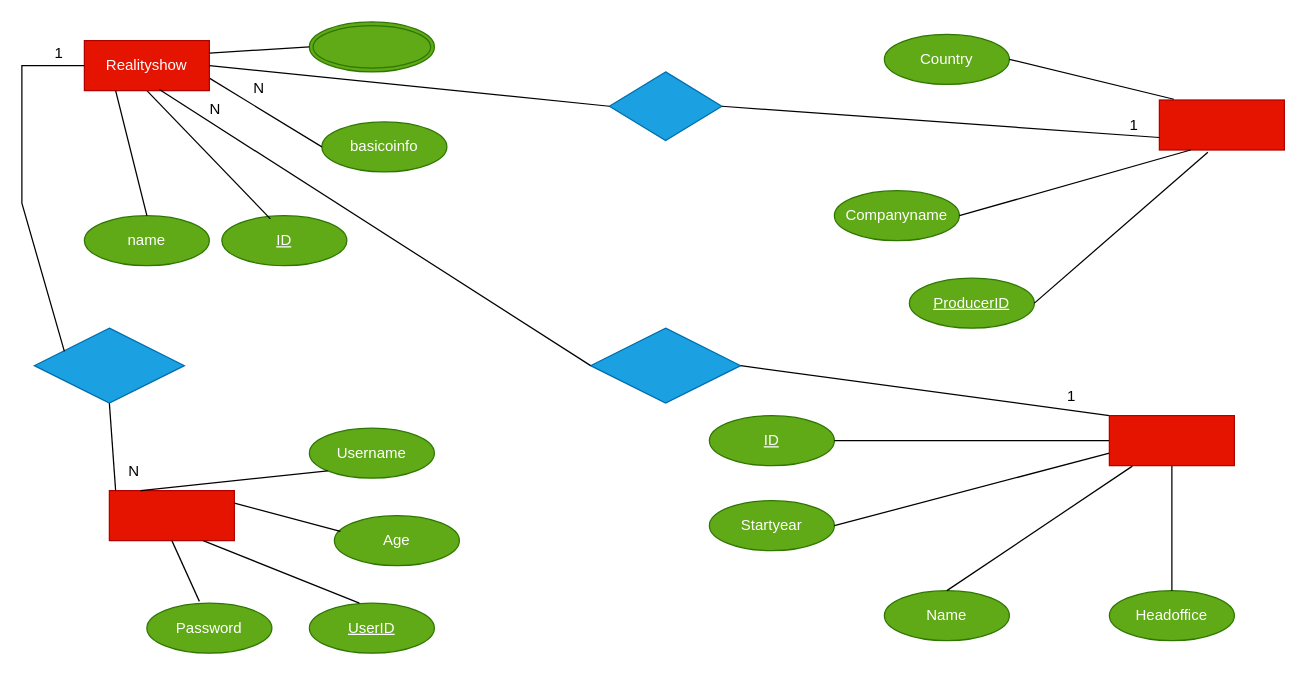
The diagram is 1306 pixels wide and 675 high, and some of its shapes have lost their labels. The box of each missing label's shape, as (x1, y1, x2, y2) in pixels:
broadcast: (589, 327, 741, 403)
Participant: (308, 21, 434, 72)
Produce: (608, 71, 722, 141)
Producer: (1158, 99, 1284, 150)
Rate: (33, 327, 184, 403)
Tvchanel: (1108, 414, 1234, 466)
User: (108, 489, 234, 541)
